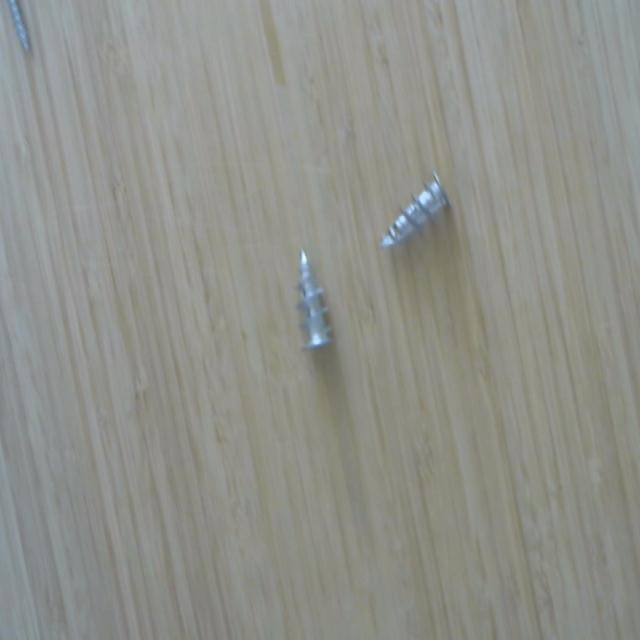Short screw: (380, 162, 458, 252), (283, 240, 337, 354)
